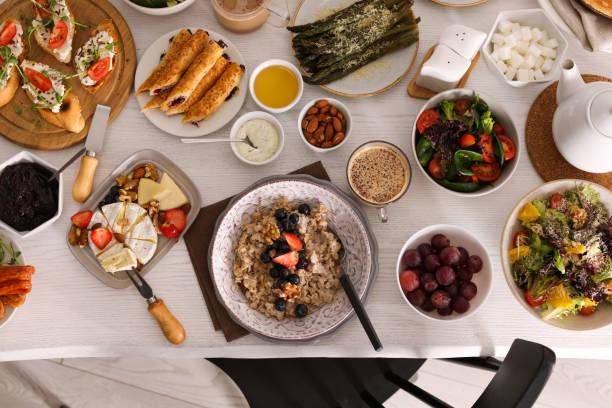Braised Crucian Carp: (209, 174, 376, 342), (4, 1, 138, 153), (68, 147, 200, 285), (500, 179, 611, 331), (290, 0, 417, 98), (134, 26, 245, 138), (411, 87, 518, 197), (396, 224, 491, 323)
